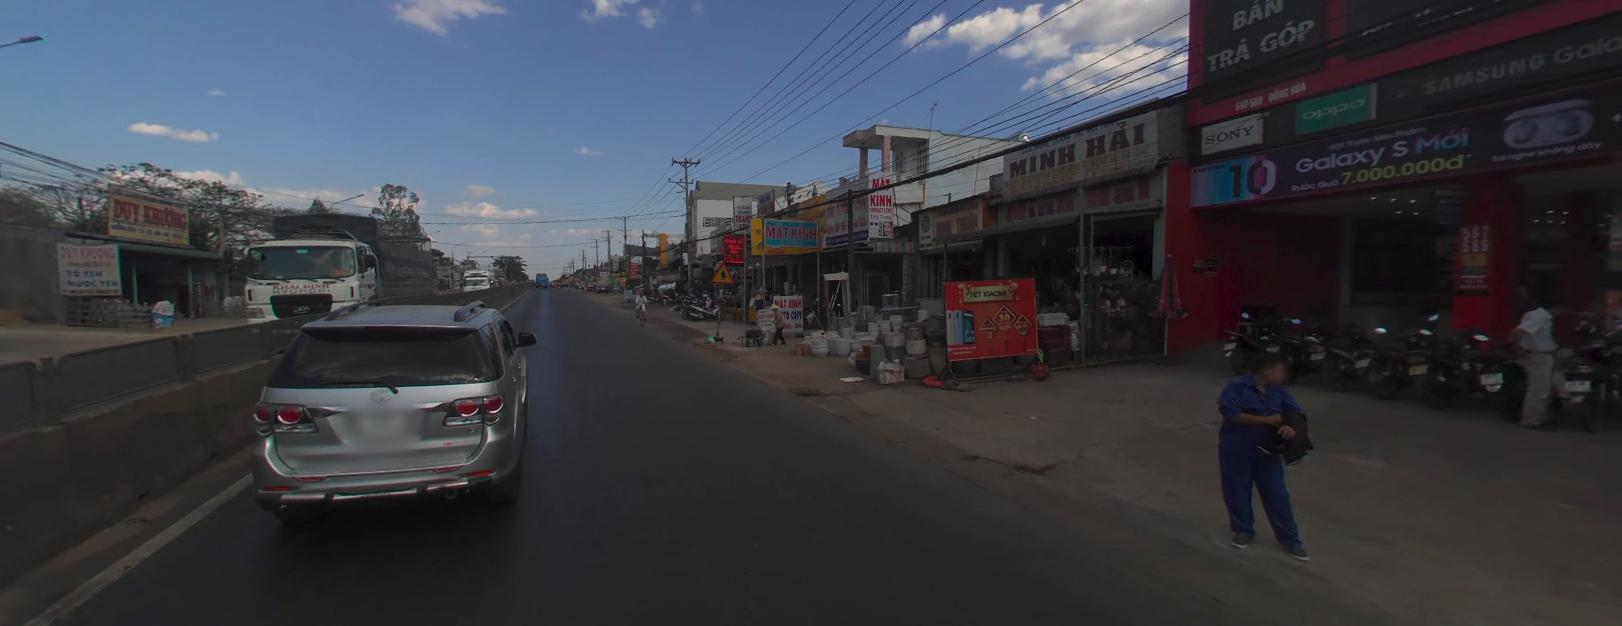Nguy hiem: (710, 261, 737, 284), (711, 262, 734, 282)
